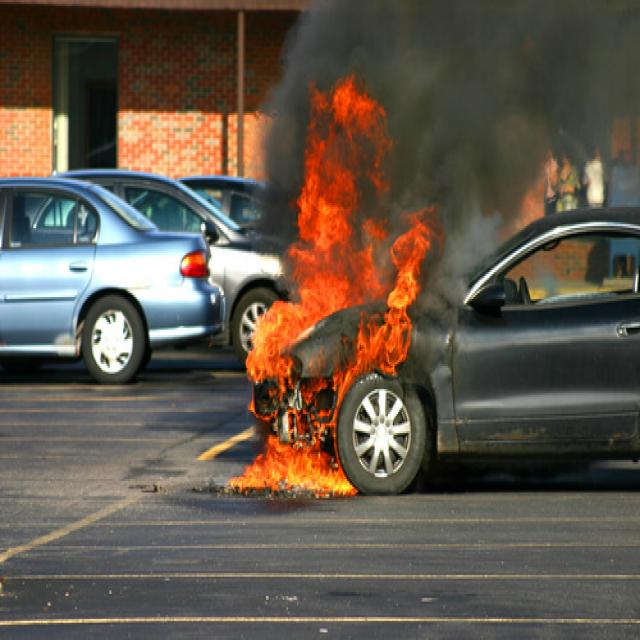fire: (246, 293, 412, 418), (297, 78, 379, 290), (228, 436, 359, 502), (393, 215, 431, 288)
